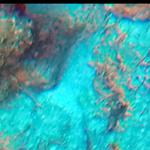dead: (11, 26, 136, 135)
